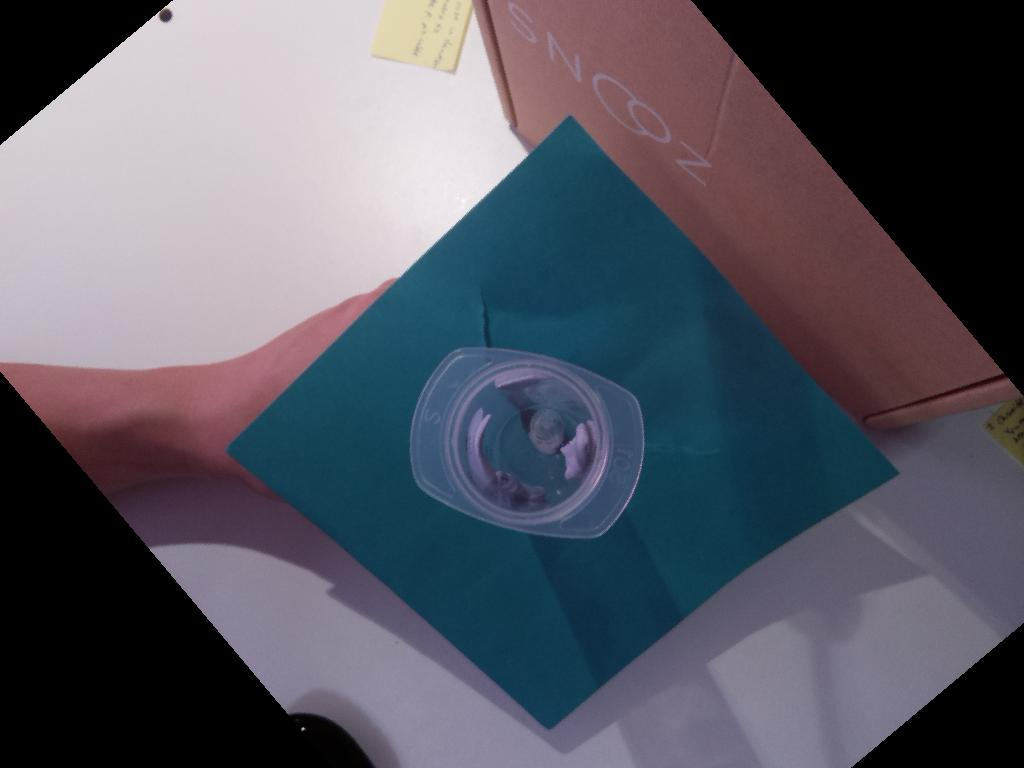dirty: (409, 345, 645, 538)
